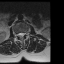CCS_normal: (20, 31, 22, 39)
LFS_normal: (24, 30, 26, 37)
LLS_normal: (22, 31, 24, 38)
RFS_normal: (16, 31, 18, 37)
RLS_normal: (18, 31, 20, 37)
